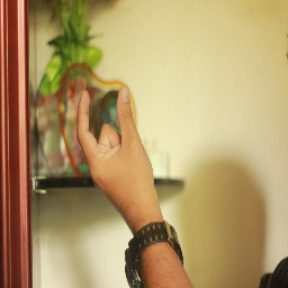U: (72, 80, 161, 210)
